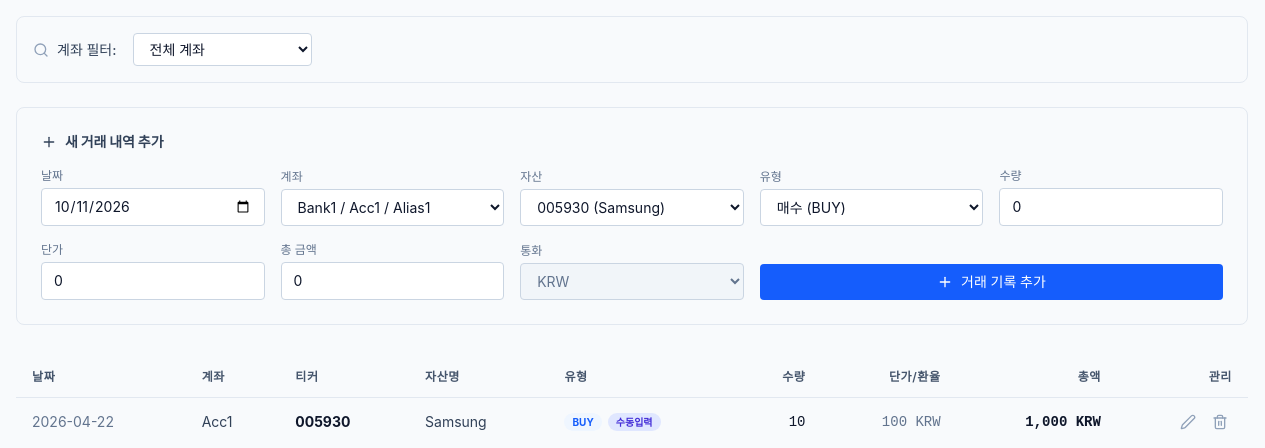
Test: TransactionsTab › 수량, 단가, 총금액 입력 시 천 단위 구분 쉼표가 렌더링에 표시되어야 한다
Check: the button "거래 기록 추가" is shown, box 760,264 -> 1223,300
Note: 쉼표가 포함된 값을 입력했을 때 정상적으로 쉼표 포맷이 노출되는지 확인
Replace the text in the 1st field named "quantity" with "1,250.5" at [1111, 207], box 999,188 -> 1223,226
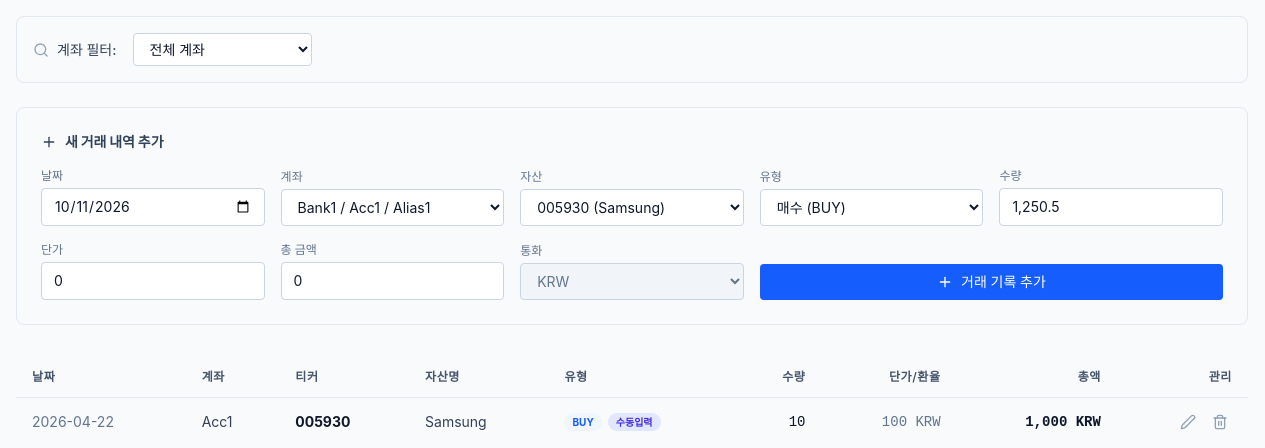
Replace the text in the 2nd field named "price" with "5,000" at [153, 281], box 41,262 -> 265,300
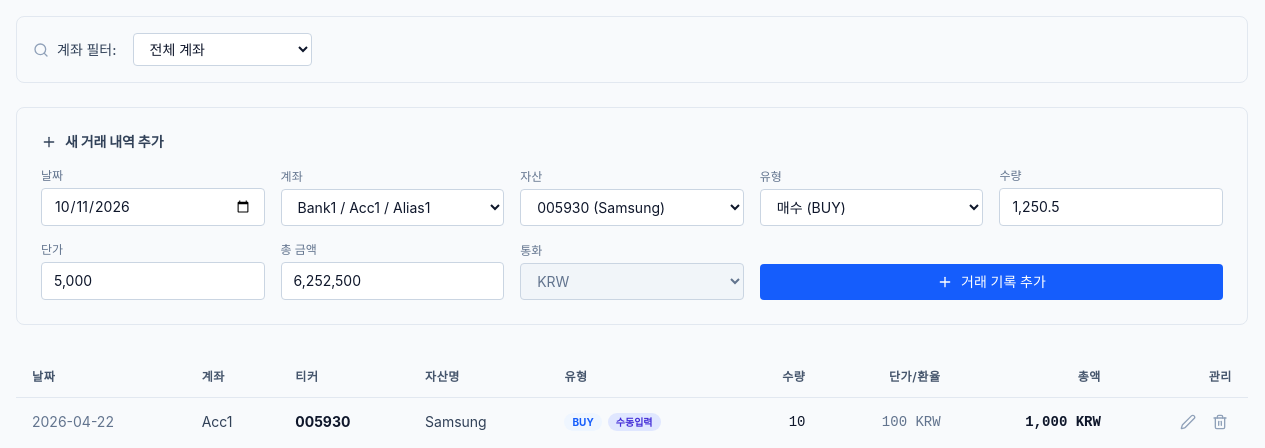
Check: the field named "total_amount" below "총 금액" holds "6,252,500", box 281,262 -> 504,300
